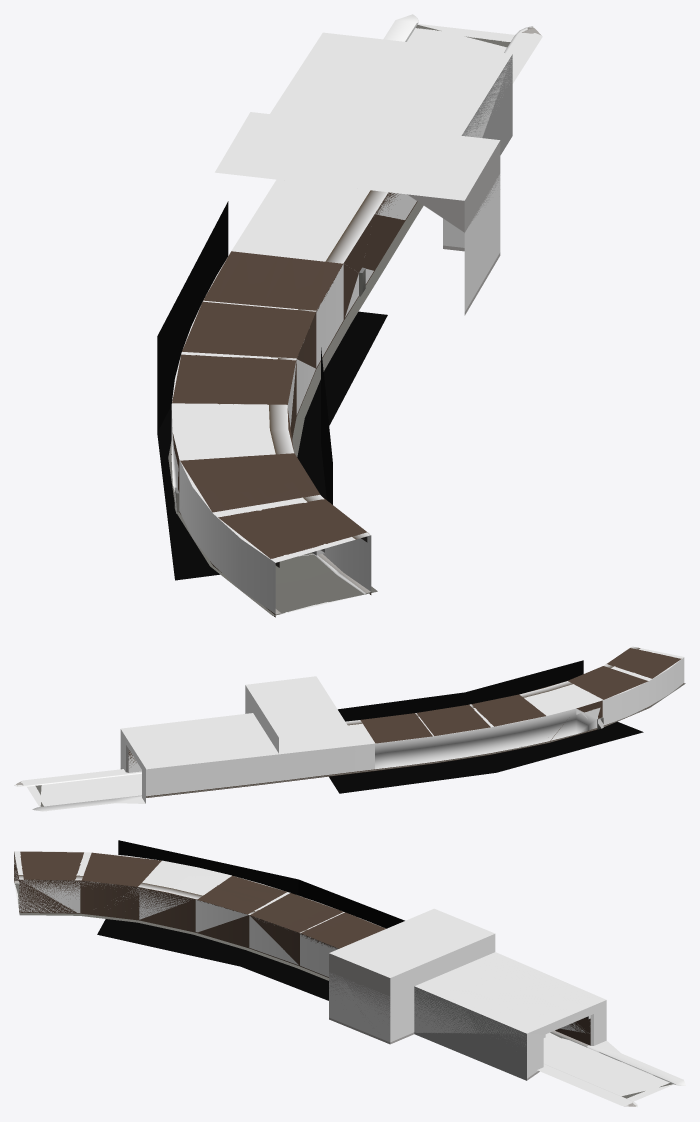
The model's file is tunnel_city3.dae.
The picture shows the model from 3 angles, top to bottom: view 1: azimuth 30°, elevation 25°; view 2: azimuth 150°, elevation 25°; view 3: azimuth 270°, elevation 25°; orthographic projection. The views are drawn at different scales.
Visible parts, largest first — view 1: Colmesh_tunnel_city3-1, tunnel_city3_L600, tunnel_city3_L2500, tunnel_city3_L1200; view 2: Colmesh_tunnel_city3-1, tunnel_city3_L600, tunnel_city3_L2500; view 3: Colmesh_tunnel_city3-1, tunnel_city3_L600, tunnel_city3_L1200, tunnel_city3_L2500.
Boxes of the visible parts, left/top/right/bottom form: Colmesh_tunnel_city3-1: left=157, top=14, right=542, bottom=613; tunnel_city3_L600: left=168, top=25, right=512, bottom=617; tunnel_city3_L2500: left=157, top=15, right=534, bottom=613; tunnel_city3_L1200: left=173, top=22, right=541, bottom=613; Colmesh_tunnel_city3-1: left=14, top=646, right=683, bottom=811; tunnel_city3_L600: left=35, top=648, right=685, bottom=806; tunnel_city3_L2500: left=15, top=657, right=684, bottom=784; Colmesh_tunnel_city3-1: left=14, top=851, right=685, bottom=1107; tunnel_city3_L600: left=14, top=851, right=672, bottom=1098; tunnel_city3_L1200: left=14, top=856, right=675, bottom=1106; tunnel_city3_L2500: left=16, top=840, right=635, bottom=1106.
Bounding box in the file's own units: 93.61 × 117 × 14.5.
